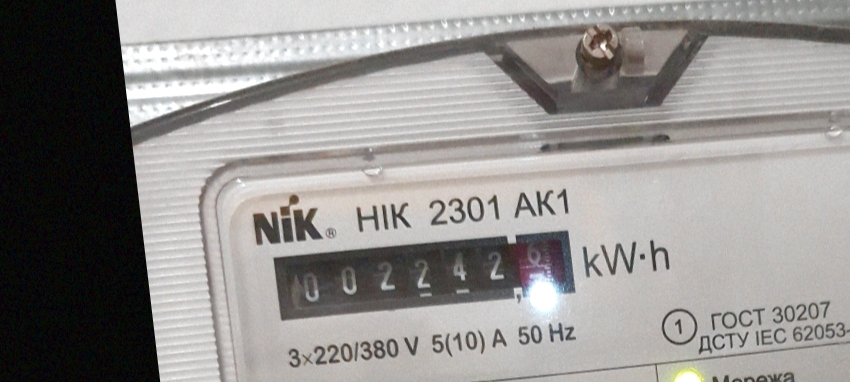0: (297, 271, 320, 306), (334, 264, 357, 299)
2: (372, 260, 395, 294), (409, 257, 430, 292), (483, 250, 503, 284)
4: (447, 251, 466, 285)
6: (522, 240, 540, 269)
screen: (259, 213, 585, 339)
